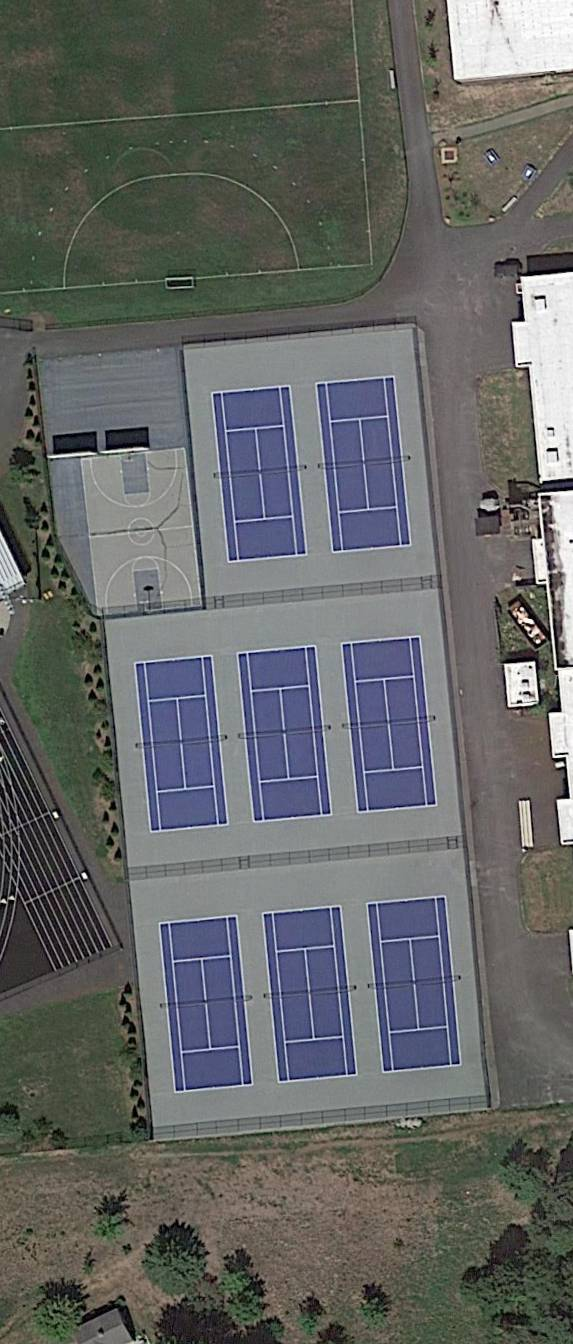basketball court: (81, 446, 203, 617)
soccer ball field: (0, 1, 375, 291)
tennis court: (366, 895, 463, 1075), (340, 634, 437, 814), (212, 385, 308, 564), (159, 915, 255, 1093), (316, 376, 412, 554), (134, 655, 230, 832), (238, 647, 333, 822), (264, 905, 357, 1082)
